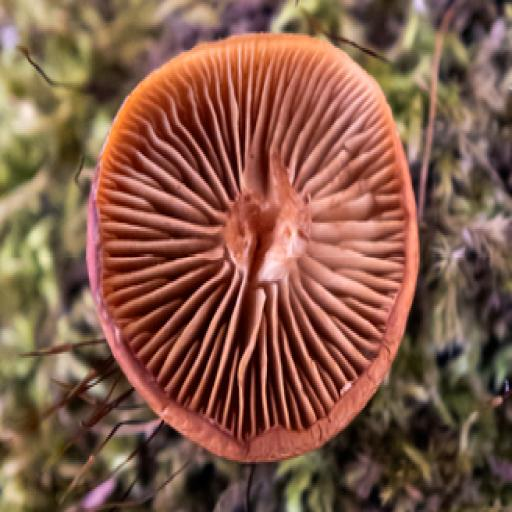Funeral Bell: (83, 29, 426, 468)
